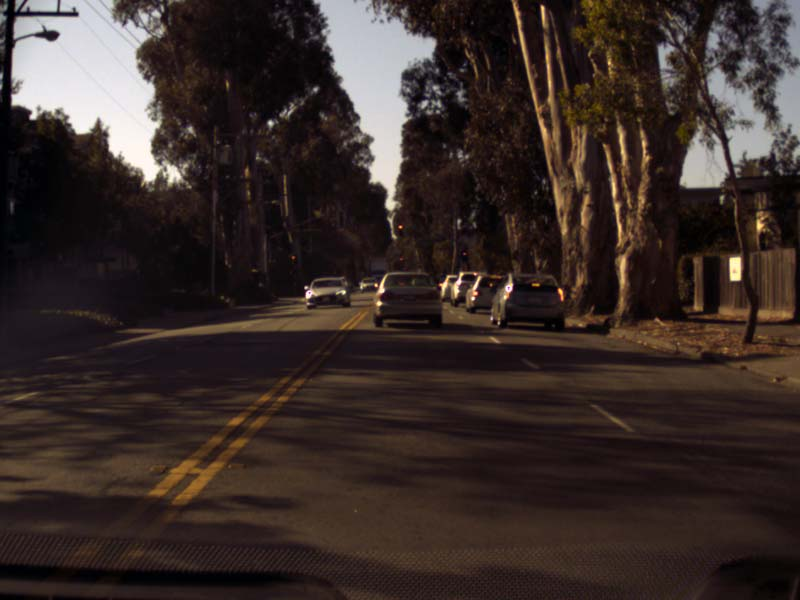Red: (398, 224, 403, 235), (461, 251, 467, 259), (291, 254, 296, 263), (399, 254, 403, 261)
